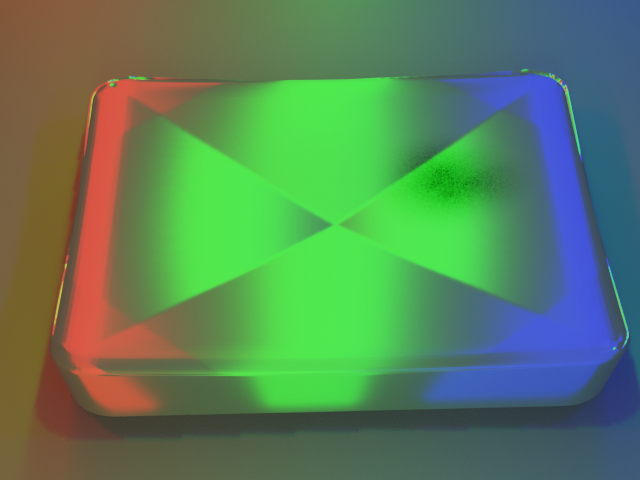smash: (0, 0, 639, 479)
stain: (338, 109, 571, 242)
